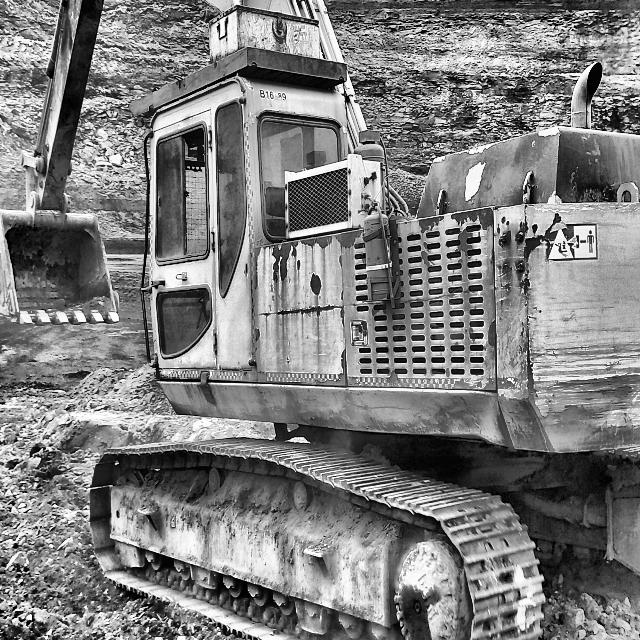excavator: (88, 0, 640, 640)
